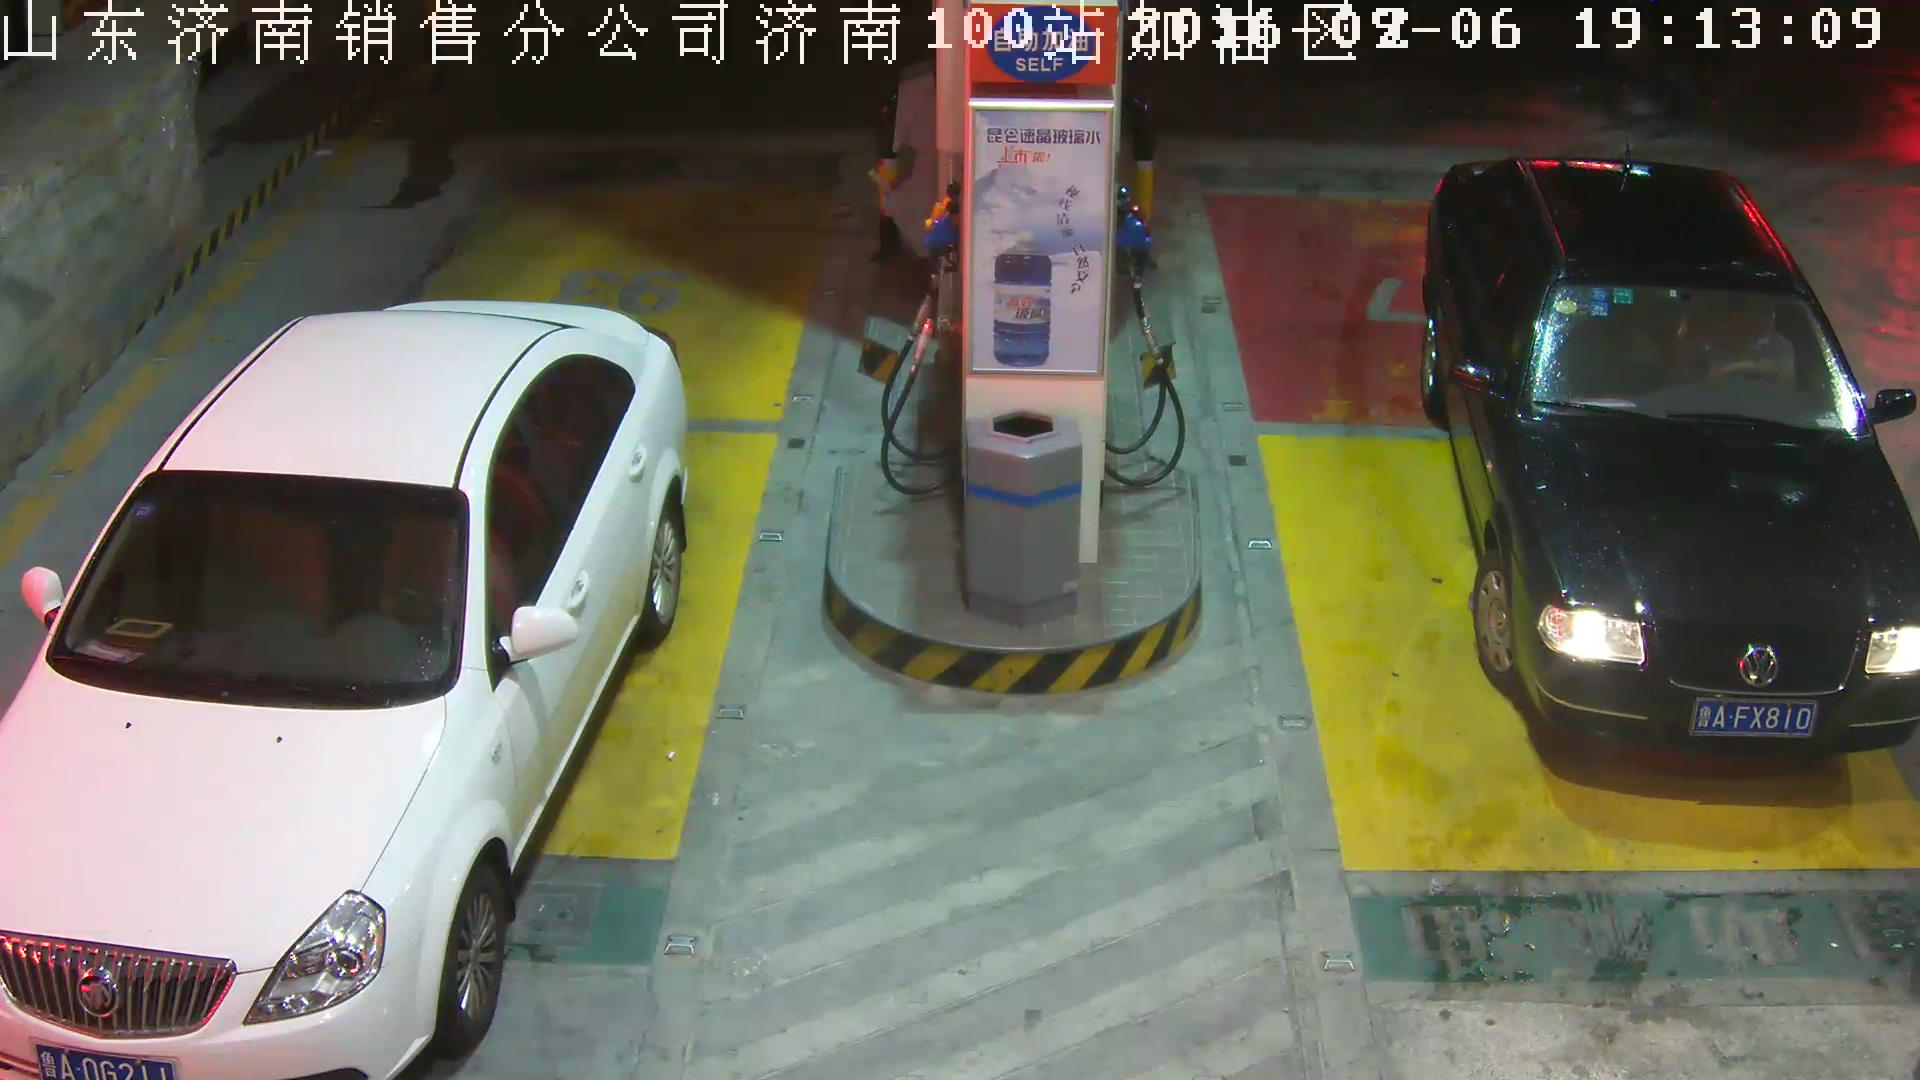blue: (1688, 695, 1821, 741)
